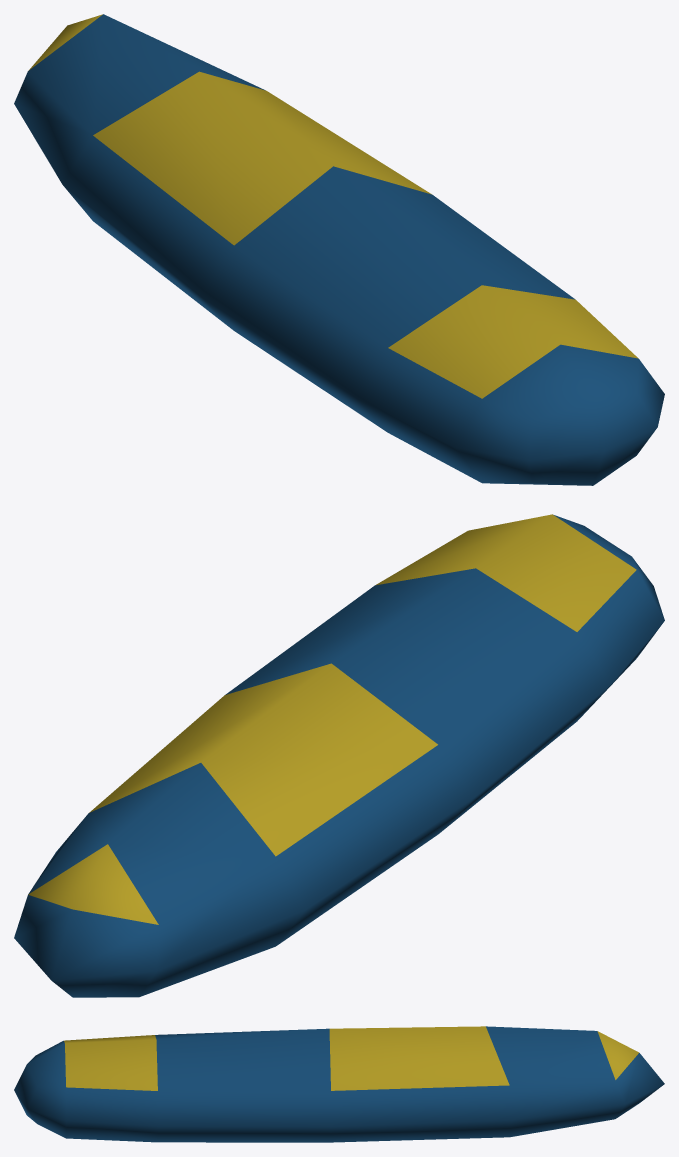
The model's file is ALLIANCEBODY4.fbx.
3 views of the same model, one above another, from view 1: azimuth 30°, elevation 25°; view 2: azimuth 150°, elevation 25°; view 3: azimuth 270°, elevation 25° (orthographic). The views are drawn at different scales.
Parts seen in each view (by area): view 1: pSphere4; view 2: pSphere4; view 3: pSphere4.
Part boxes in pixels (box(x1,y1,x2,y2)): pSphere4: box(14, 14, 664, 485); pSphere4: box(14, 514, 664, 997); pSphere4: box(14, 1026, 664, 1142).
Size of the model in its own units: 7.9 by 4.37 by 27.47.
